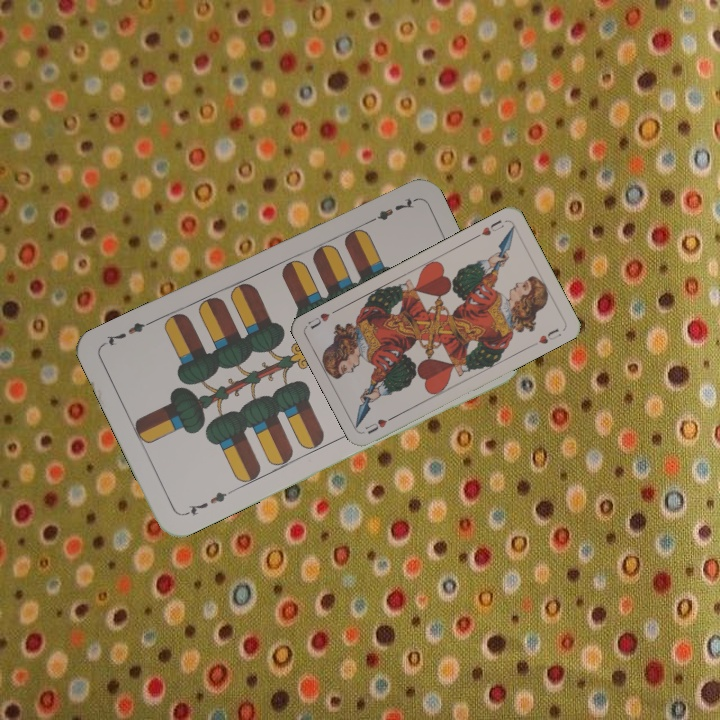E7: (362, 193, 417, 227), (179, 487, 235, 519)
HU: (361, 411, 398, 437), (471, 216, 507, 241)
